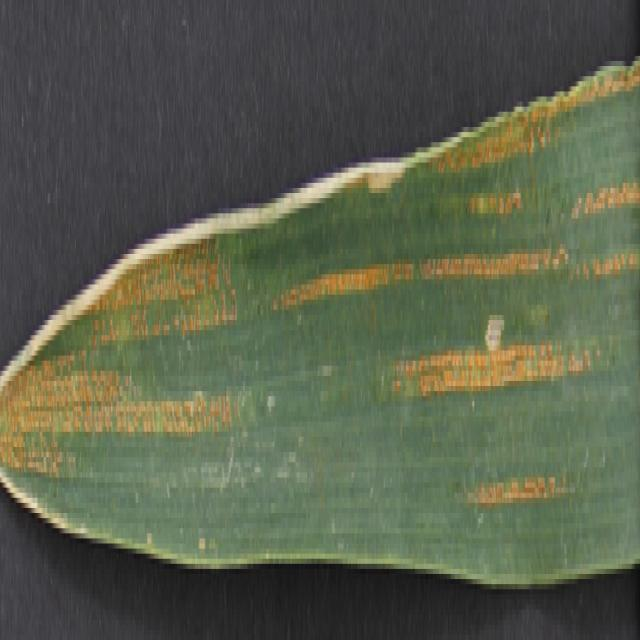leaf rust: (291, 239, 640, 533), (1, 239, 241, 498), (440, 45, 640, 228)
